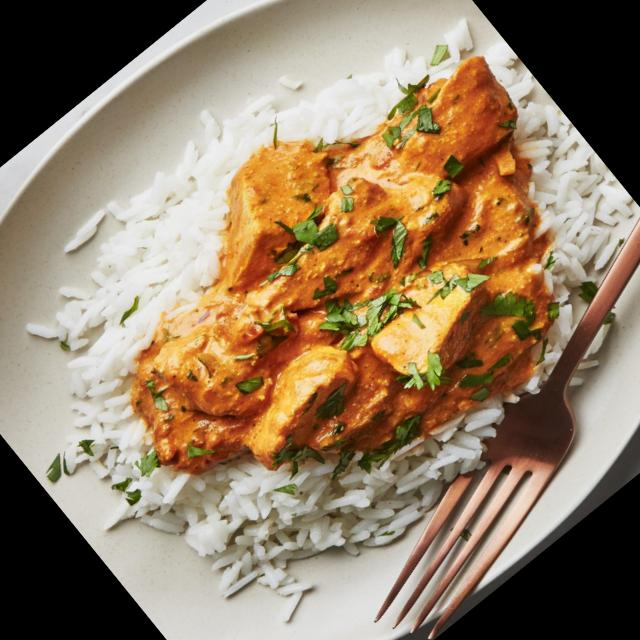chicken: (128, 30, 636, 532)
rice: (28, 110, 317, 370), (207, 382, 444, 615)
